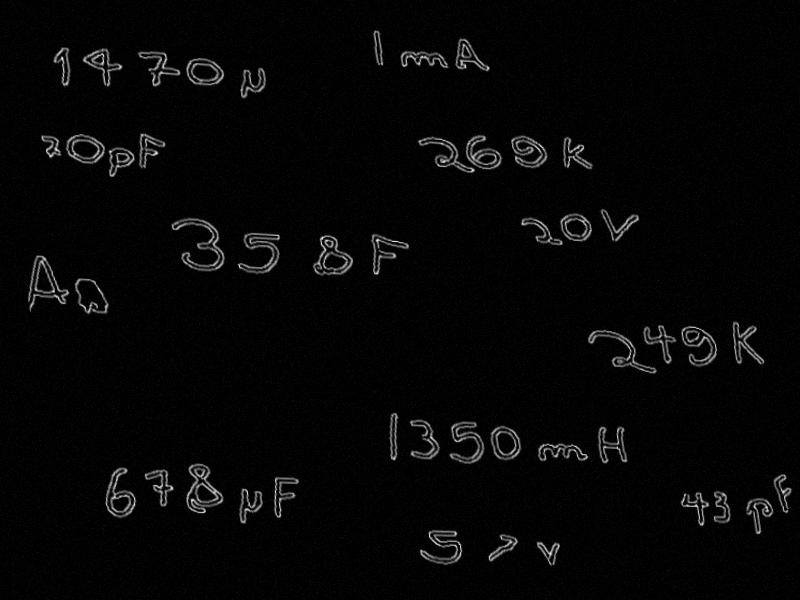0: (60, 130, 110, 166), (181, 53, 228, 89), (486, 422, 526, 463), (556, 210, 598, 246)
1: (47, 44, 80, 89), (380, 409, 407, 462), (367, 27, 390, 70)
2: (583, 325, 661, 377), (413, 131, 476, 177), (517, 213, 565, 246)
3: (166, 211, 231, 277), (403, 415, 444, 462), (705, 488, 737, 528)
4: (78, 45, 129, 90), (639, 323, 683, 368), (675, 489, 715, 527)
5: (228, 227, 291, 278), (411, 525, 467, 568), (442, 419, 489, 468)
6: (96, 464, 143, 522), (459, 132, 507, 175)
7: (136, 46, 186, 93), (479, 529, 525, 566), (141, 466, 177, 508), (38, 133, 65, 159)
8: (176, 461, 229, 517), (304, 231, 358, 280)
9: (677, 323, 722, 370), (508, 132, 553, 172)
A: (20, 252, 77, 320), (448, 35, 493, 74)
F: (363, 230, 418, 279), (267, 474, 310, 520), (132, 131, 174, 172), (768, 472, 798, 515)
H: (592, 421, 633, 464)
V: (598, 207, 644, 246), (533, 538, 564, 569)
k: (725, 319, 768, 367), (557, 134, 597, 172)
m: (395, 45, 452, 74), (534, 439, 591, 465)
p: (741, 495, 779, 537), (103, 145, 141, 182)
u: (232, 486, 271, 529), (232, 64, 272, 103)
